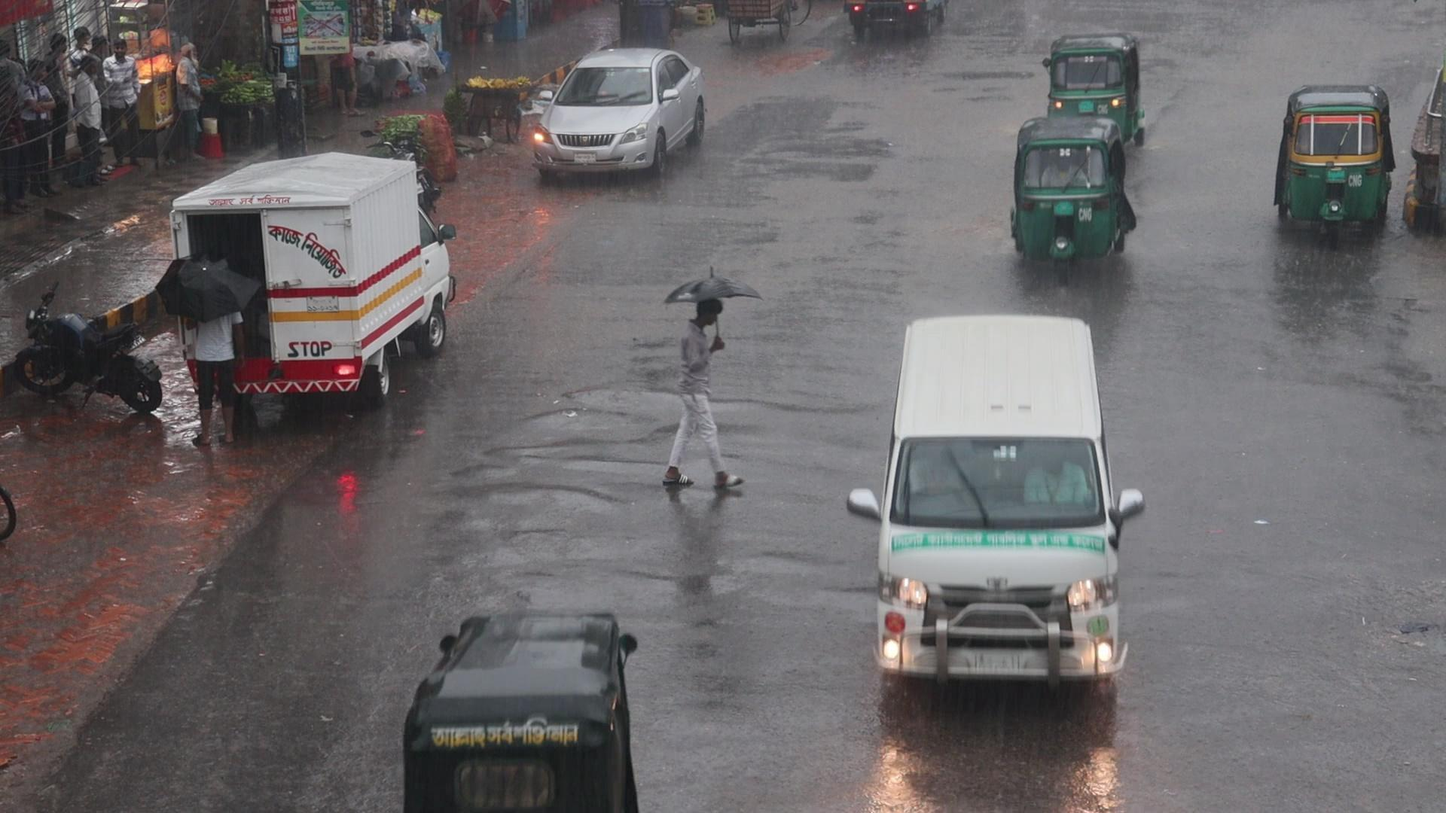Car: (847, 314, 1145, 727), (530, 47, 710, 178)
